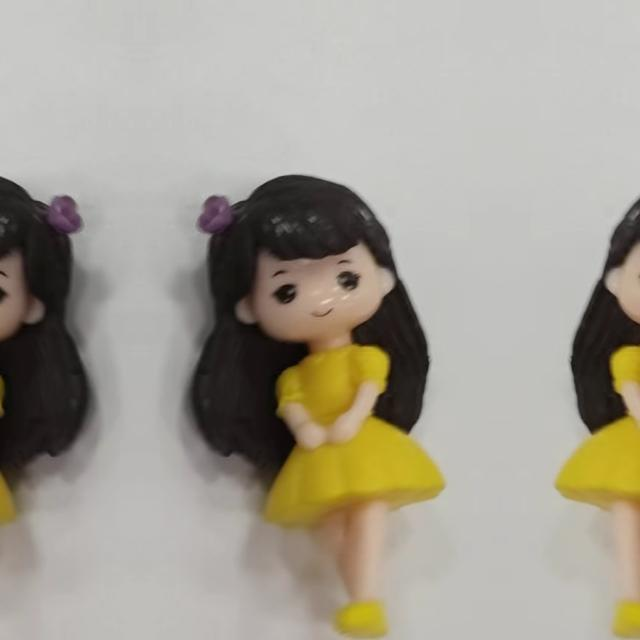woman dress: (248, 354, 456, 532), (544, 354, 640, 531), (0, 354, 32, 531)
woman head: (188, 178, 434, 352), (0, 177, 92, 352), (565, 177, 640, 352)
